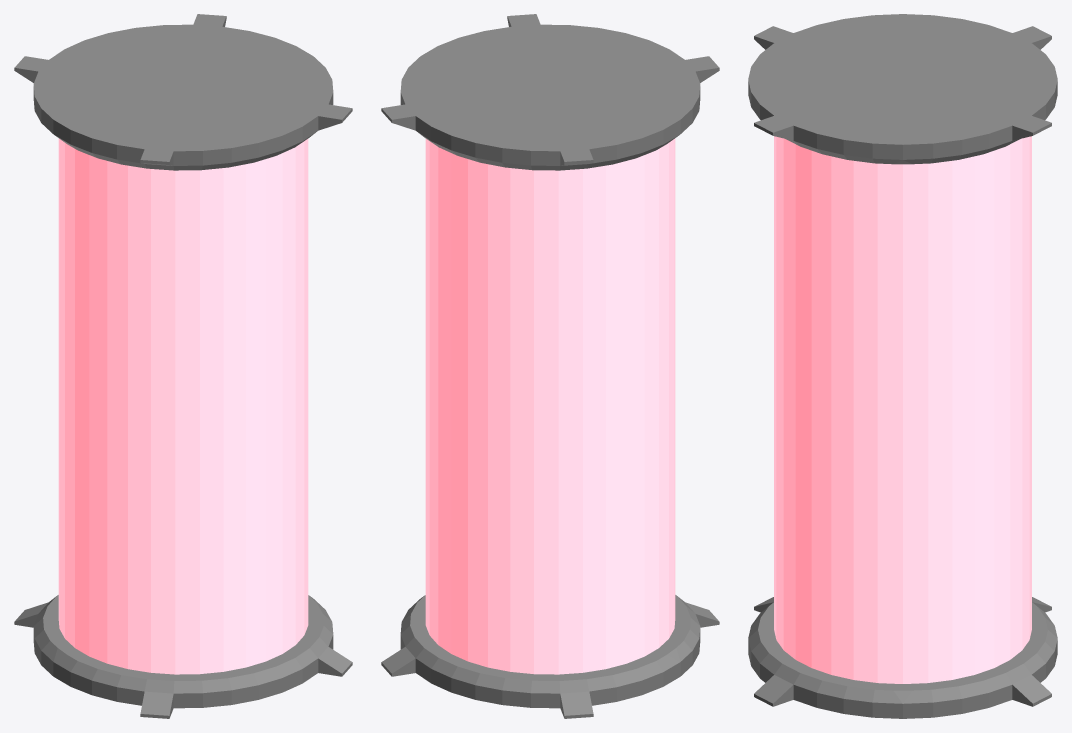
File: portal.glb
3 renders of one model, left to right at view 1: azimuth 30°, elevation 25°; view 2: azimuth 150°, elevation 25°; view 3: azimuth 270°, elevation 25°, orthographic. The views are drawn at different scales.
Parts seen in each view (by area): view 1: Cube.003, Portal.003; view 2: Cube.003, Portal.003; view 3: Cube.003, Portal.003.
Part boxes in pixels (bbox=[...]): Cube.003: bbox=[58, 138, 308, 674]; Portal.003: bbox=[14, 14, 352, 718]; Cube.003: bbox=[425, 138, 675, 674]; Portal.003: bbox=[381, 14, 719, 718]; Cube.003: bbox=[774, 136, 1031, 683]; Portal.003: bbox=[748, 14, 1057, 718].
Bounding box in the file's own units: 5.86 × 12 × 5.86.
